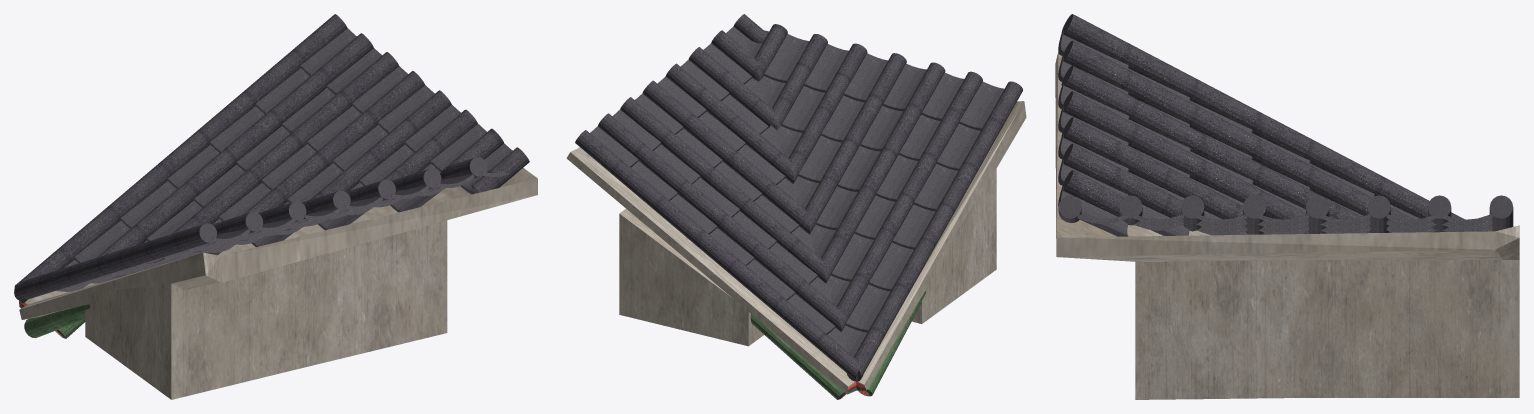
The model's file is SM_R_RoofCornerCut_9.fbx.
The picture shows the model from 3 angles, left to right: view 1: azimuth 30°, elevation 25°; view 2: azimuth 150°, elevation 25°; view 3: azimuth 270°, elevation 25°; orthographic projection. The views are drawn at different scales.
Parts seen in each view (by area): view 1: SM_R_RoofCornerCut_9; view 2: SM_R_RoofCornerCut_9; view 3: SM_R_RoofCornerCut_9.
Boxes of the visible parts, x1,y1,x2,y2 form: SM_R_RoofCornerCut_9: (14, 14, 537, 399); SM_R_RoofCornerCut_9: (566, 14, 1026, 399); SM_R_RoofCornerCut_9: (1055, 14, 1519, 399).
Bounding box in the file's own units: 312 × 317 × 212.
4 materials, 4 textured.
